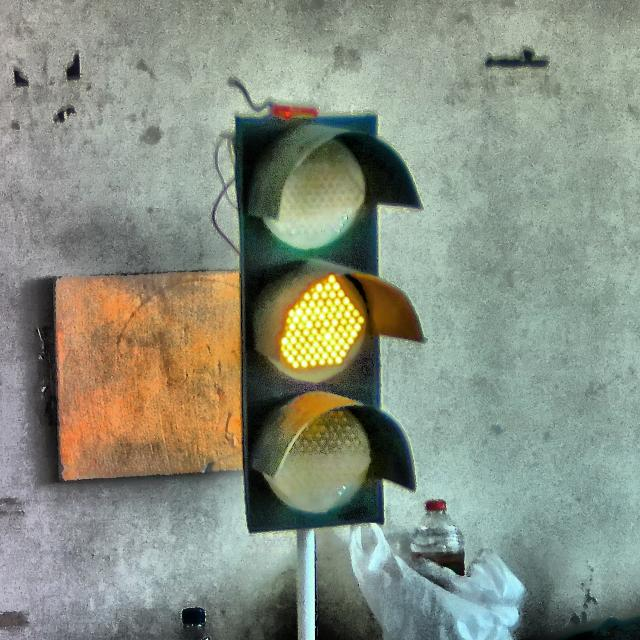yellow: (237, 118, 416, 526)
